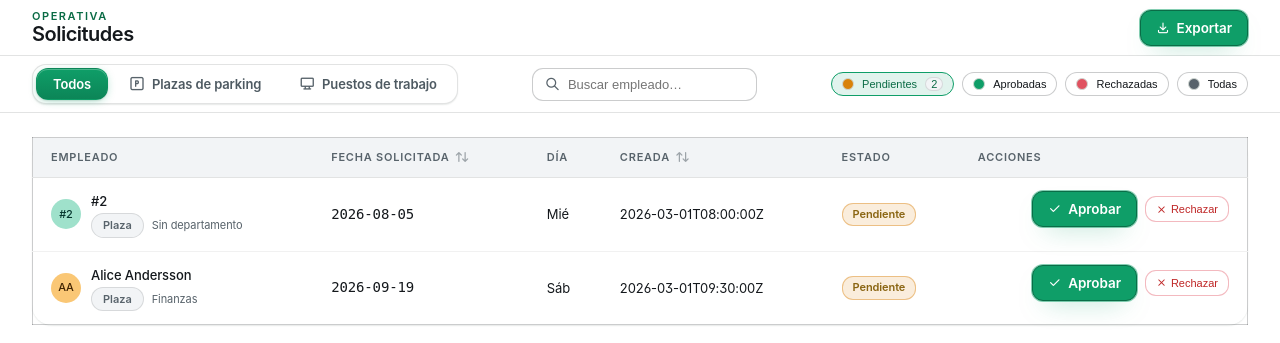
PendingRequestsPage (ADMIN) › should_list_all_statuses_when_all_tab_selected
Click the tab "Todas": coordinates (1212, 84) [1177,72,1248,96]
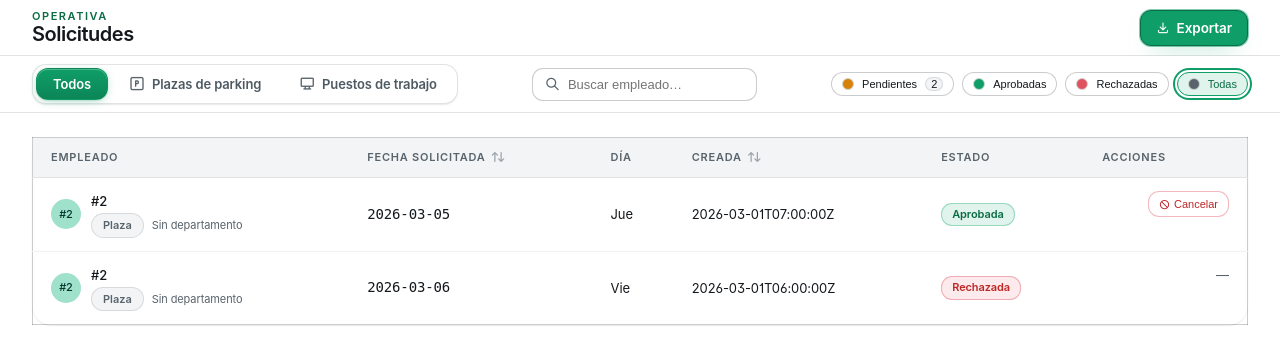
Result: the text "2026-03-05" is shown at [367,206,450,222]
Result: the text "2026-03-06" is shown at [367,279,450,295]
